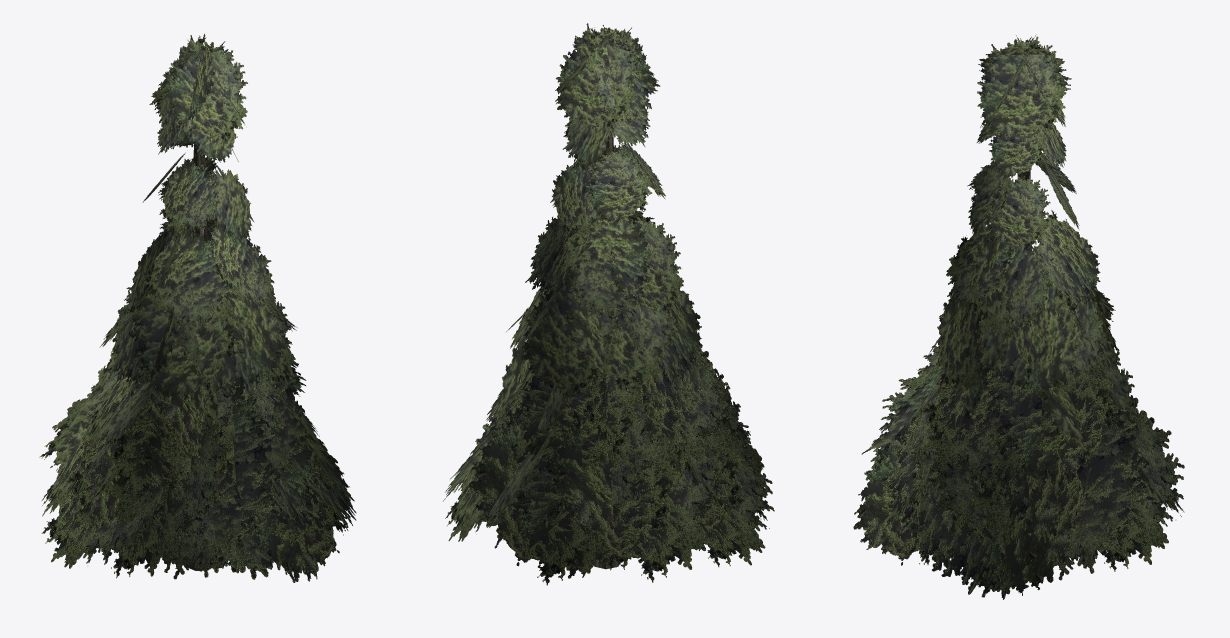
Rendered from tree5.gltf.
3 renders of one model, left to right at view 1: azimuth 30°, elevation 25°; view 2: azimuth 150°, elevation 25°; view 3: azimuth 270°, elevation 25°, orthographic. The views are drawn at different scales.
Visible parts, largest first — view 1: tree5_new; view 2: tree5_new; view 3: tree5_new.
Part boxes in pixels (box(x1,y1,x2,y2)): tree5_new: box(39, 33, 356, 582); tree5_new: box(443, 23, 774, 585); tree5_new: box(853, 34, 1184, 599).
Size of the model in its own units: 34.6 by 53.4 by 34.6.
2 materials, 2 textured.
